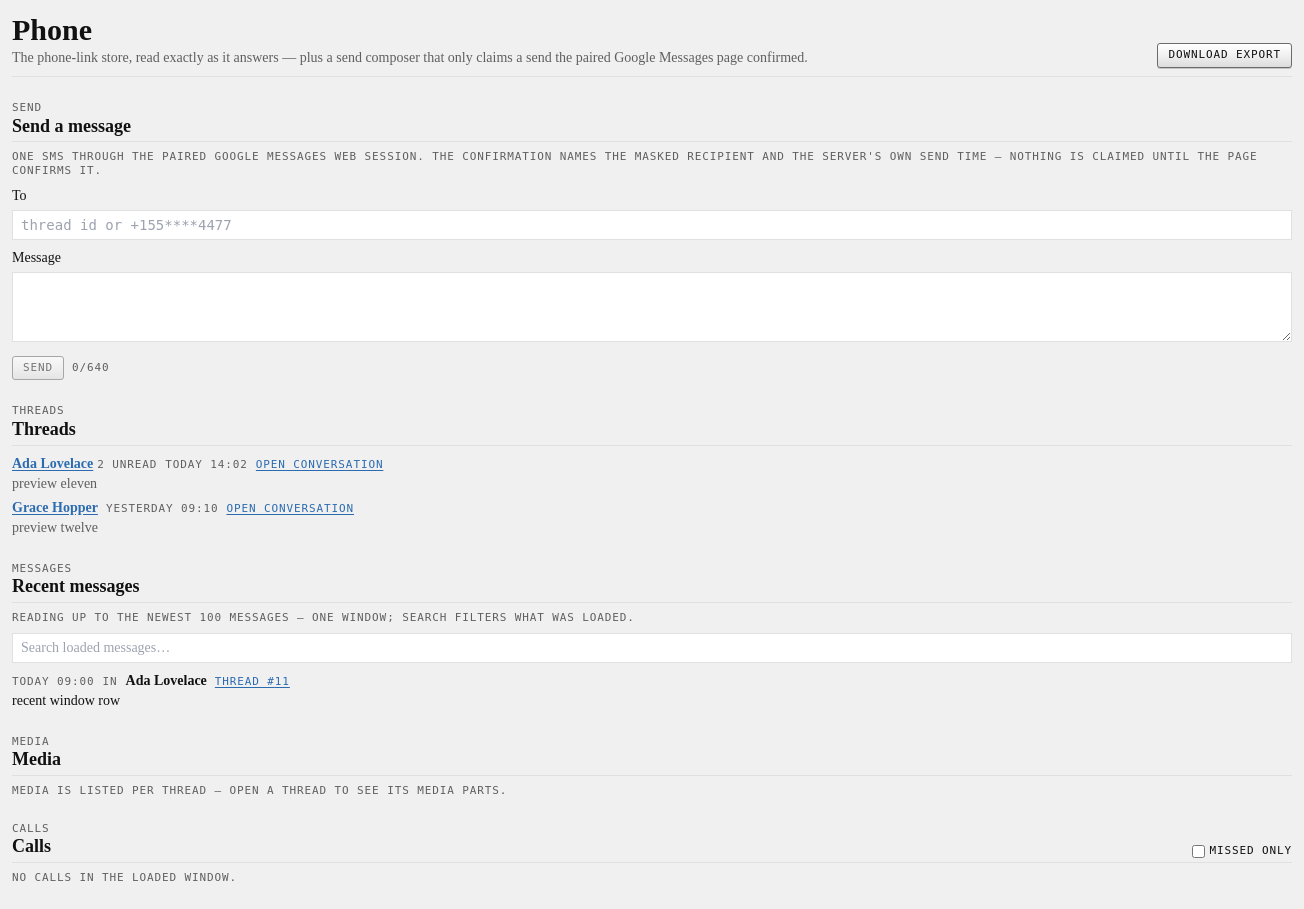
phone thread view — loading / empty / refusal / unavailable › E_PHONE_UNAVAILABLE renders the page's ONE PHONE LINK UNAVAILABLE block
Click the button with aria-label "Open conversation with Ada Lovelace" at (320, 464), box [256, 458, 383, 471]
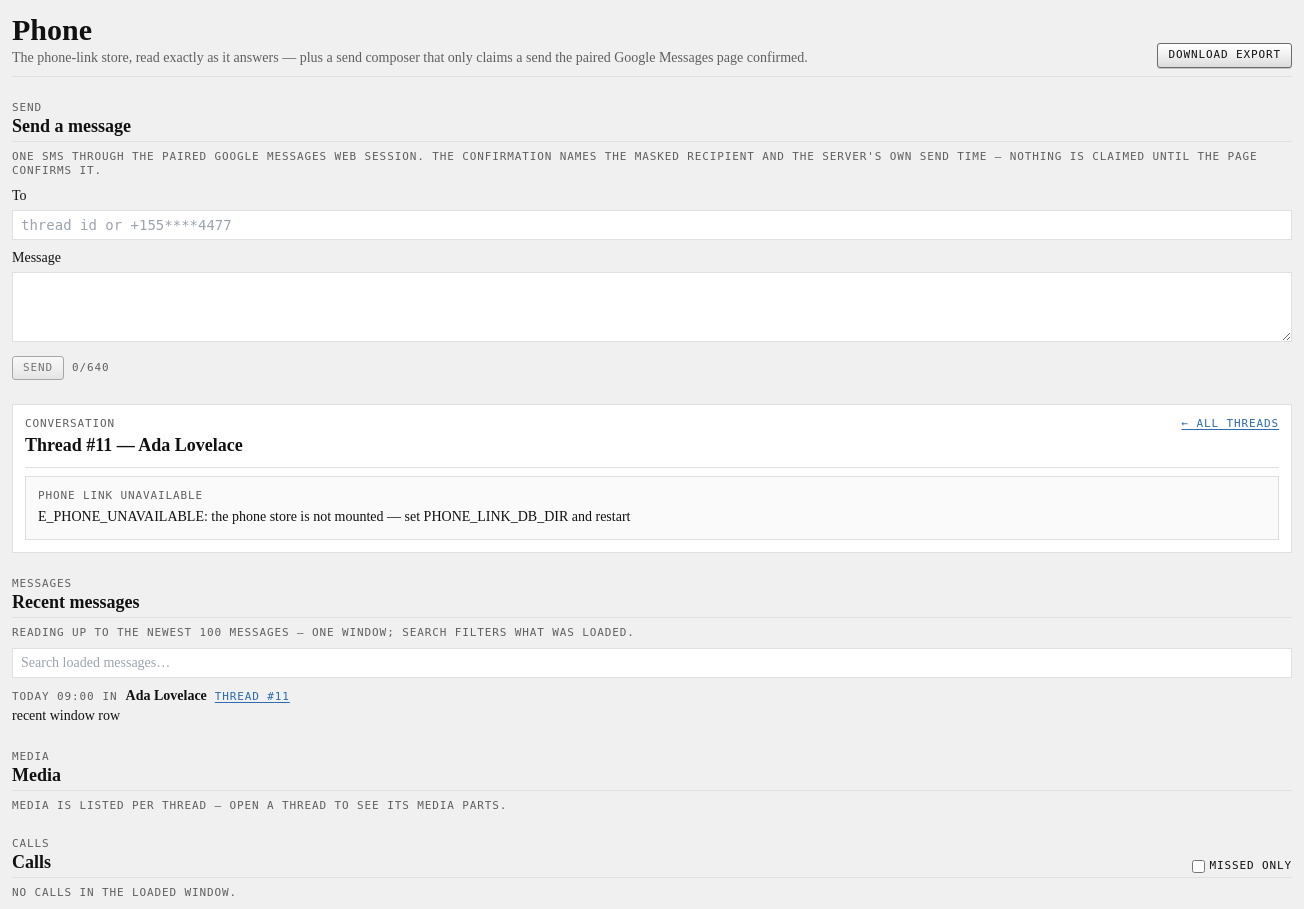
Now the element with test id "phone-thread-unavailable" shows "PHONE LINK UNAVAILABLE", box [38, 489, 203, 502]
Now the element with test id "phone-thread-unavailable" shows "E_PHONE_UNAVAILABLE", box [38, 509, 630, 524]
Now the element with test id "phone-thread-unavailable" shows "set PHONE_LINK_DB_DIR", box [38, 509, 630, 524]
